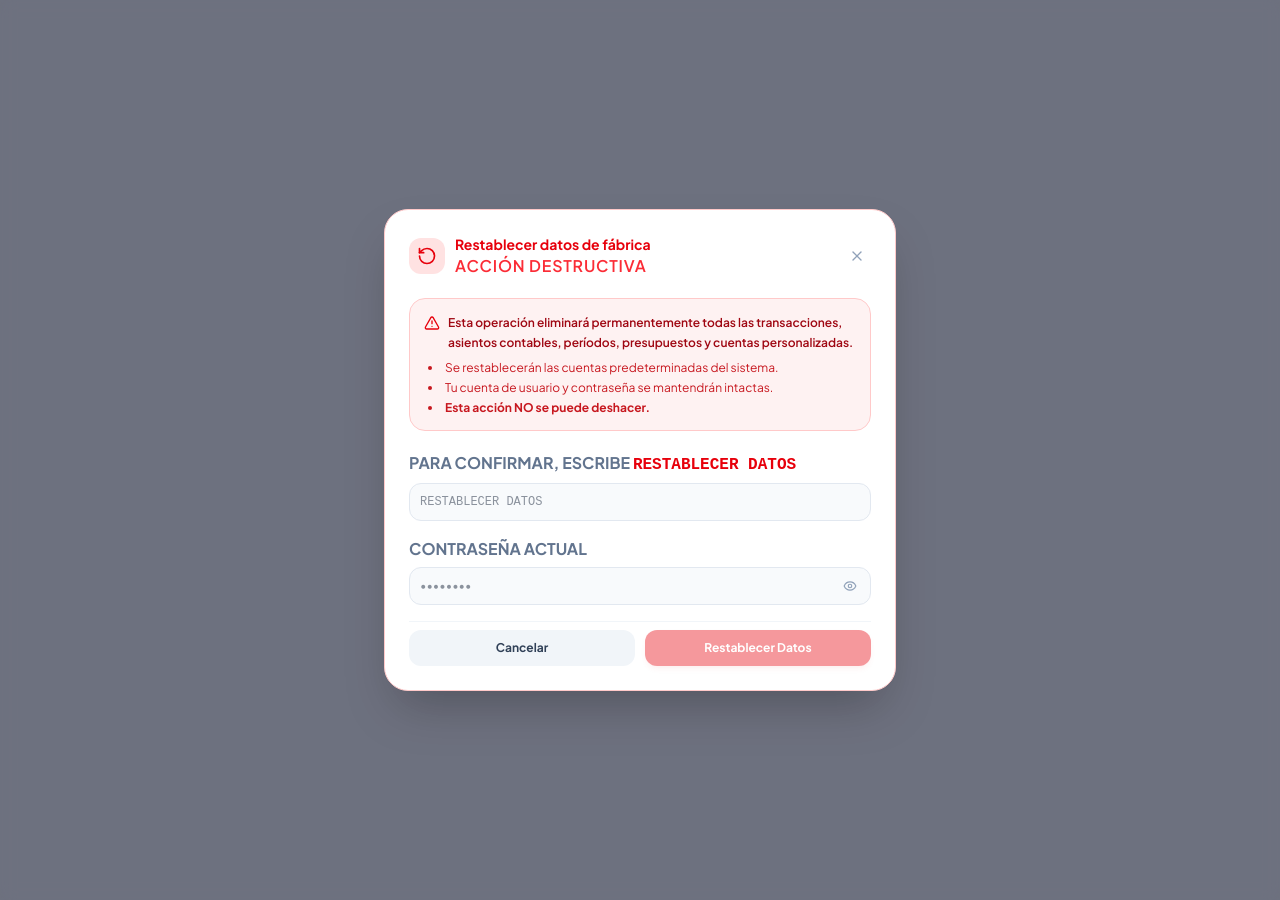
Test: DangerZone Components › FactoryResetModal (US2) › disables confirm button until exact phrase and password are entered
Expected: the button "Restablecer Datos" is disabled, [645,630,871,666]
// Incomplete phrase
Type "RESTABLECER" into the field with placeholder "RESTABLECER DATOS".
click(640, 502); type("RESTABLECER")  # box [409,483,871,521]
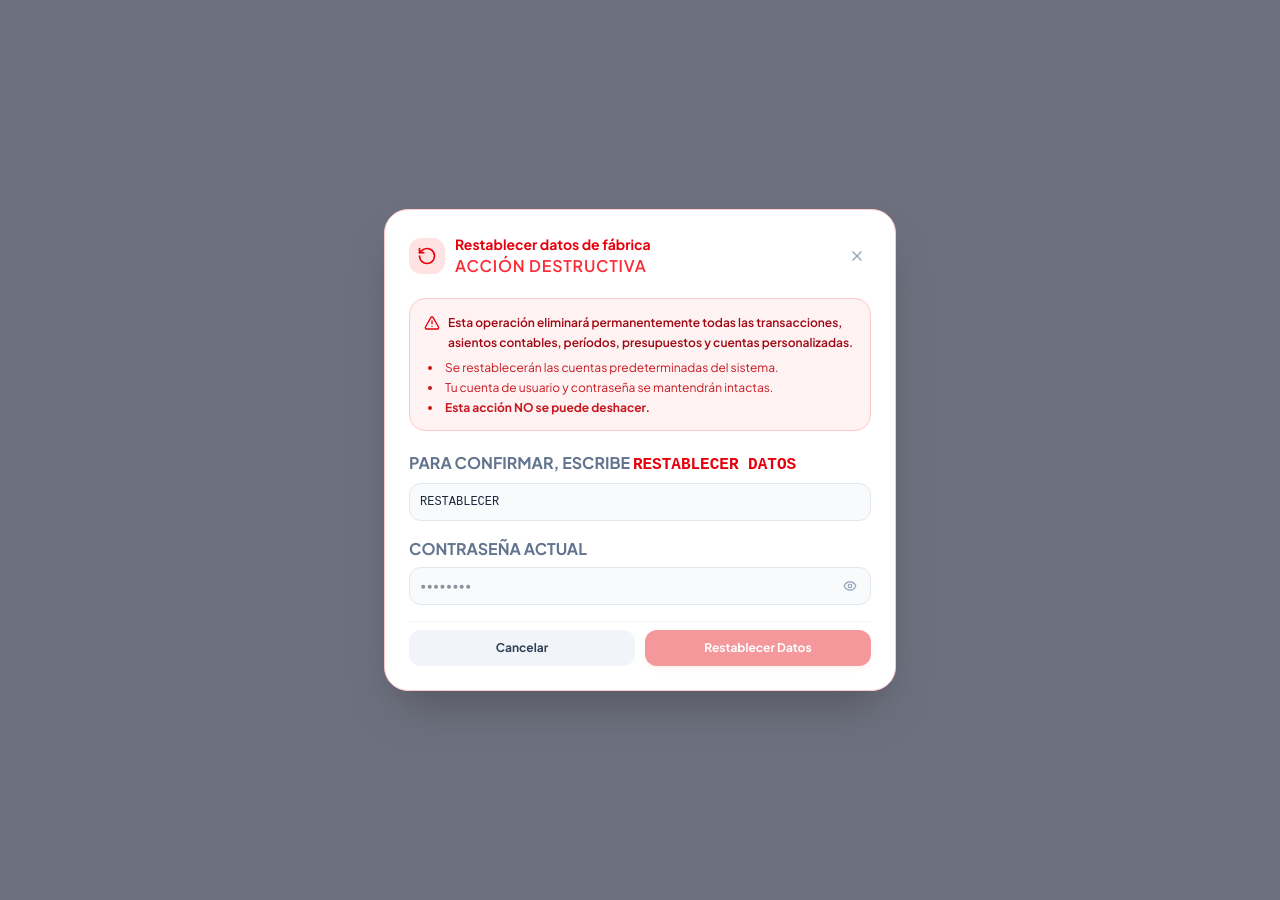
Type "password123" into the password field with placeholder "••••••••".
click(640, 586); type("password123")  # box [409,567,871,605]
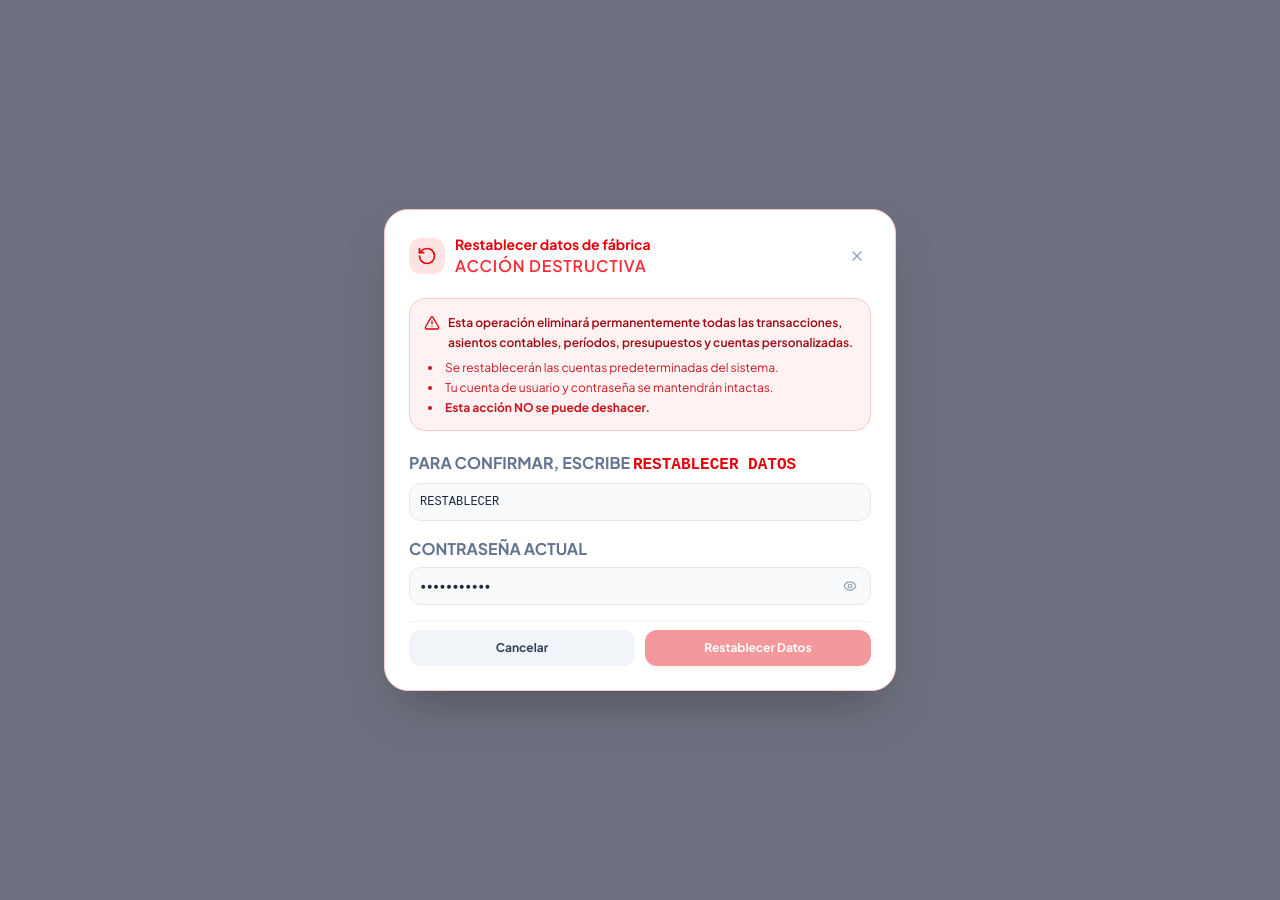
Expected: the button "Restablecer Datos" is disabled, [645,630,871,666]
// Complete phrase but no password
Replace the text in the field with placeholder "RESTABLECER DATOS" with "RESTABLECER DATOS" at x=640, y=502, box [409,483,871,521]
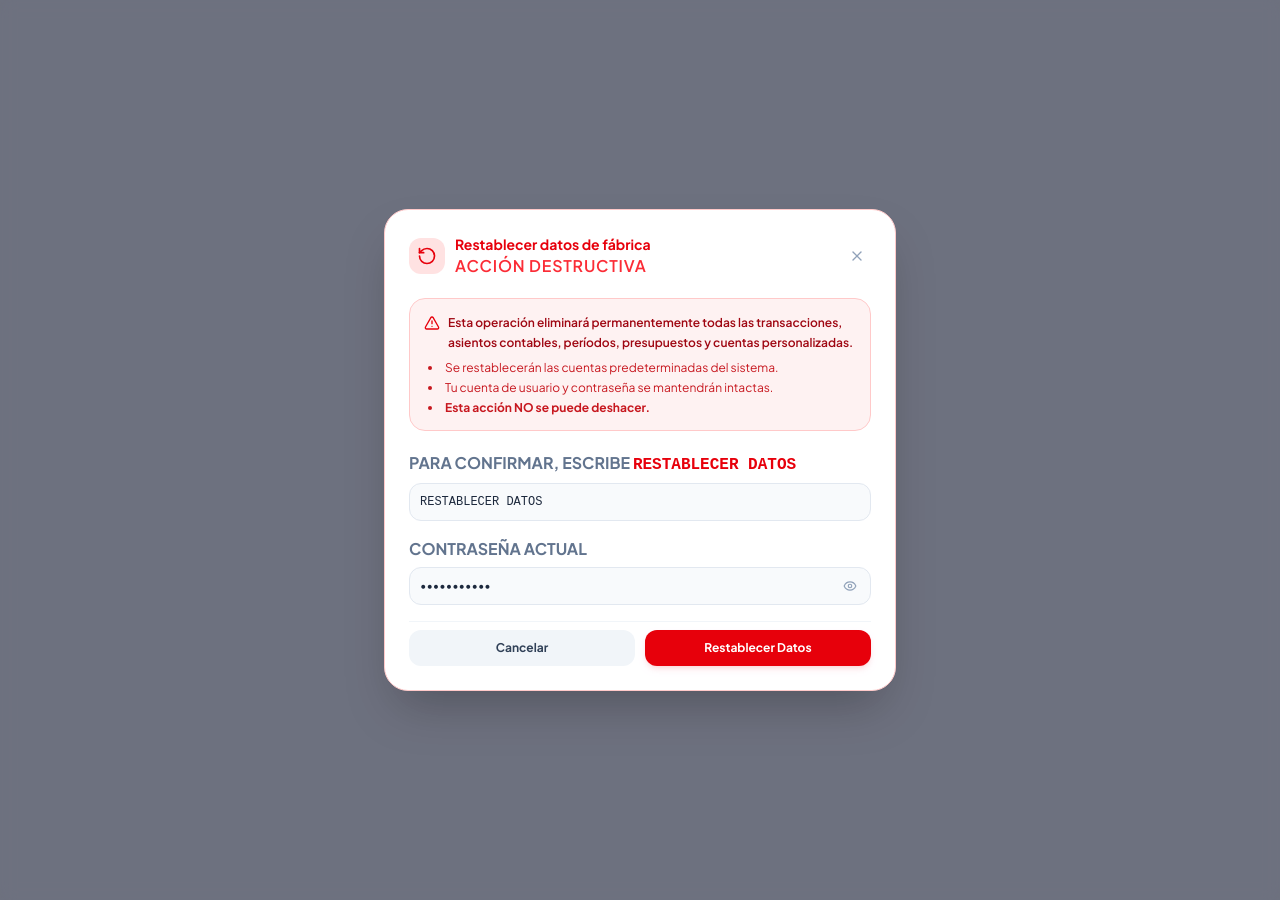
Clear the password field with placeholder "••••••••" at x=640, y=586, box [409,567,871,605]
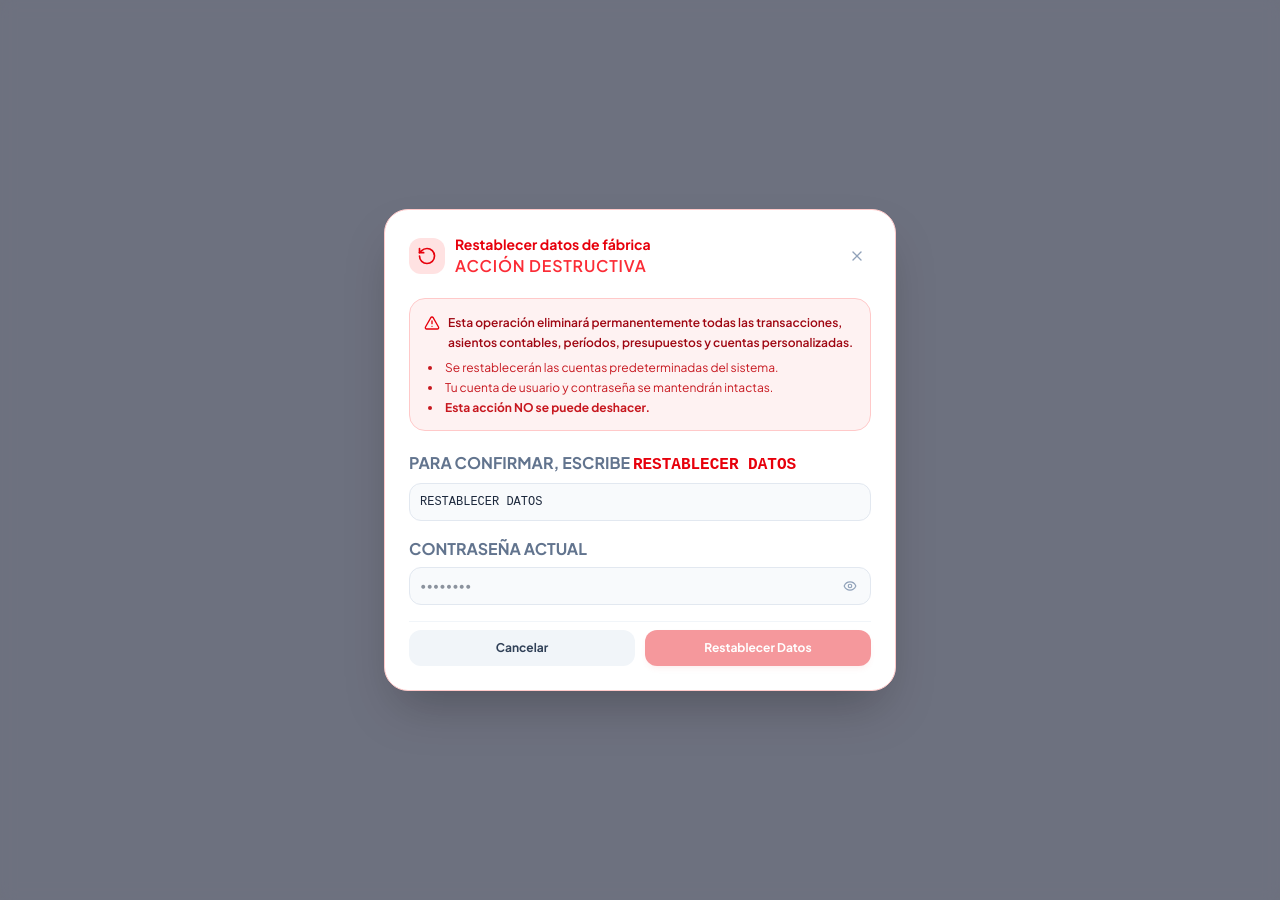
Now the button "Restablecer Datos" is disabled, box [645,630,871,666]
// Both valid
Type "secretPassword" into the password field with placeholder "••••••••".
click(640, 586); type("secretPassword")  # box [409,567,871,605]
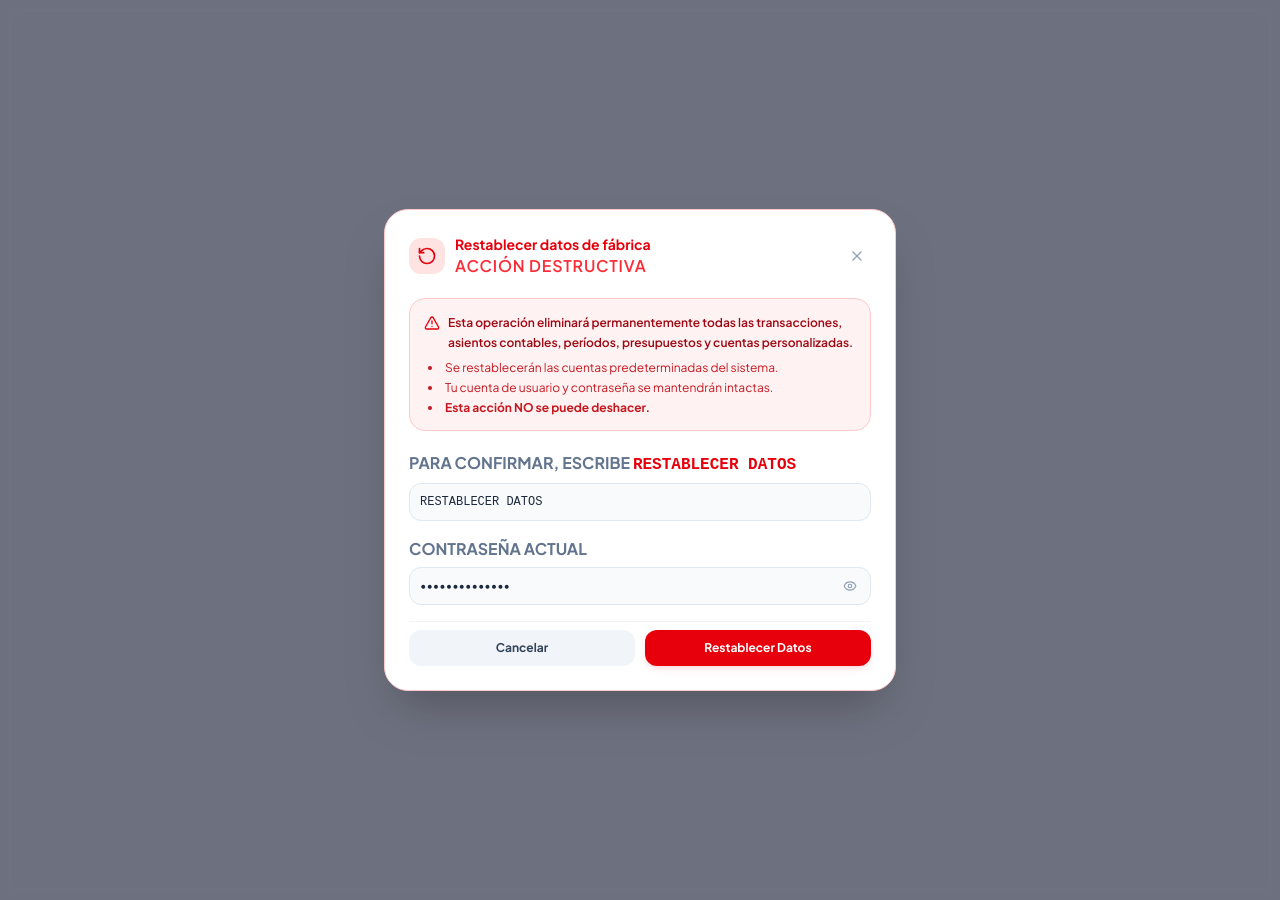
Now the button "Restablecer Datos" is enabled, box [645,630,871,666]
